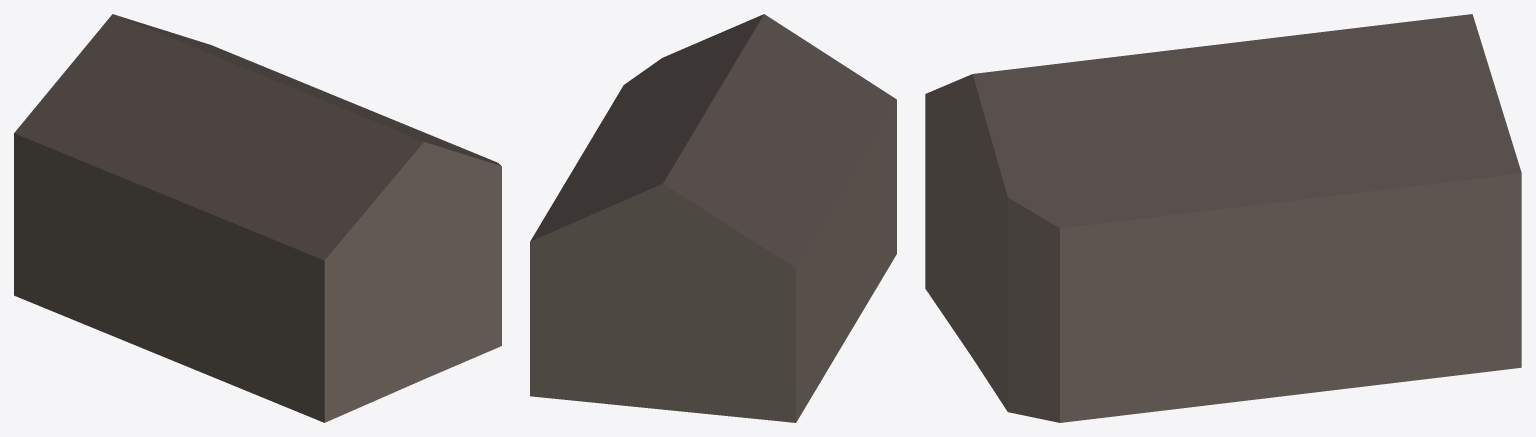
3 views of the same model, side by side, from view 1: azimuth 30°, elevation 25°; view 2: azimuth 150°, elevation 25°; view 3: azimuth 270°, elevation 25° (orthographic). The views are drawn at different scales.
Parts seen in each view (by area): view 1: HP-w1196401627; view 2: HP-w1196401627; view 3: HP-w1196401627.
Boxes of the visible parts, box(x1,y1,x2,y2) form: HP-w1196401627: box(14, 14, 501, 422); HP-w1196401627: box(530, 14, 896, 422); HP-w1196401627: box(925, 14, 1521, 422).
Size of the model in its own units: 19.3 by 13.16 by 25.05.
